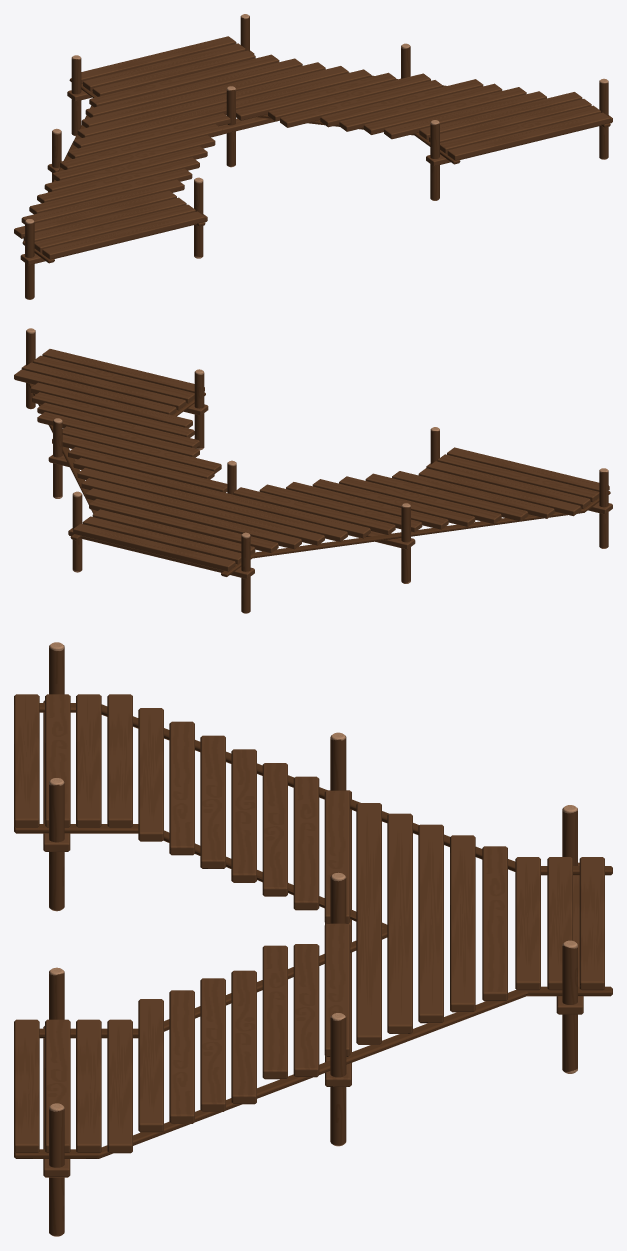
The model's file is M_Wide_Split.fbx.
3 views of the same model, one above another, from view 1: azimuth 30°, elevation 25°; view 2: azimuth 150°, elevation 25°; view 3: azimuth 270°, elevation 25° (orthographic). The views are drawn at different scales.
Visible parts, largest first — view 1: M_Wide_Split; view 2: M_Wide_Split; view 3: M_Wide_Split.
Boxes of the visible parts, bbox=[...] form: M_Wide_Split: bbox=[14, 14, 612, 299]; M_Wide_Split: bbox=[14, 328, 612, 613]; M_Wide_Split: bbox=[14, 642, 612, 1236].
Bounding box in the file's own units: 2600 × 332 × 1400.
